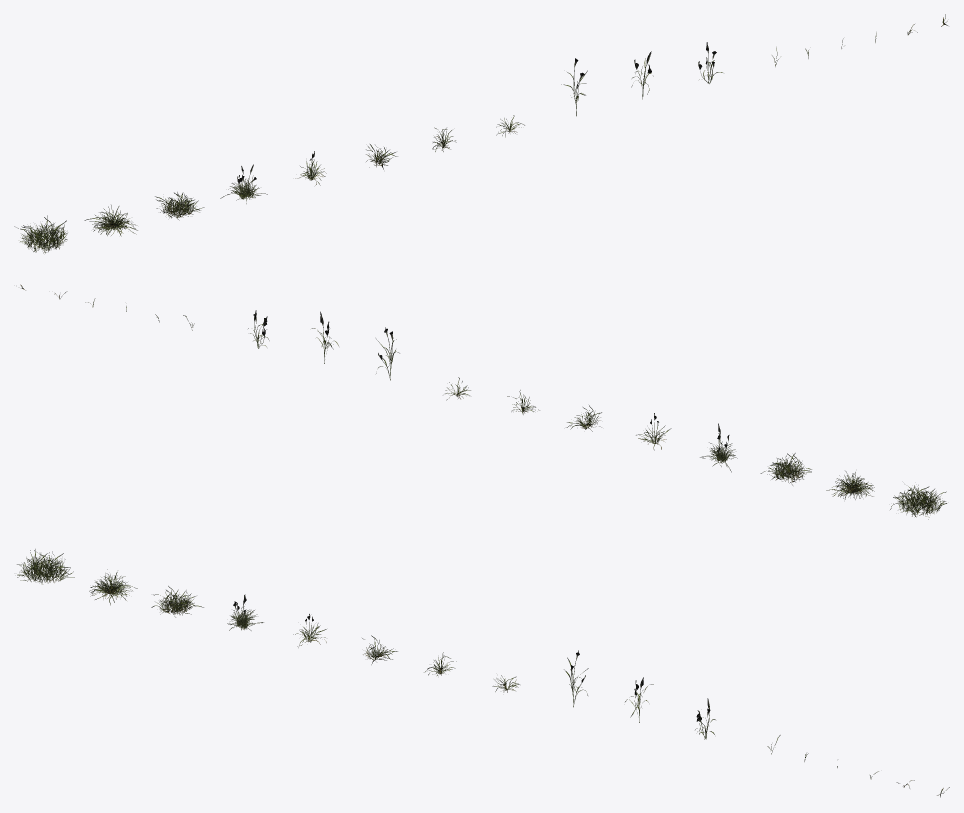
The model's file is grass_medium_01_lod1.glb.
3 renders of one model, top to bottom at view 1: azimuth 30°, elevation 25°; view 2: azimuth 150°, elevation 25°; view 3: azimuth 330°, elevation 25°, orthographic.
Parts seen in each view (by area): view 1: grass_medium_01_small_a_LOD0; view 2: grass_medium_01_small_a_LOD0; view 3: grass_medium_01_small_a_LOD0.
Part boxes in pixels (x1,y1,x2,y2): grass_medium_01_small_a_LOD0: (14,14,947,253); grass_medium_01_small_a_LOD0: (20,284,946,519); grass_medium_01_small_a_LOD0: (17,549,949,797).
Bounding box in the file's own units: 5.6 × 0.3421 × 0.3264.
1 material, 1 textured.
